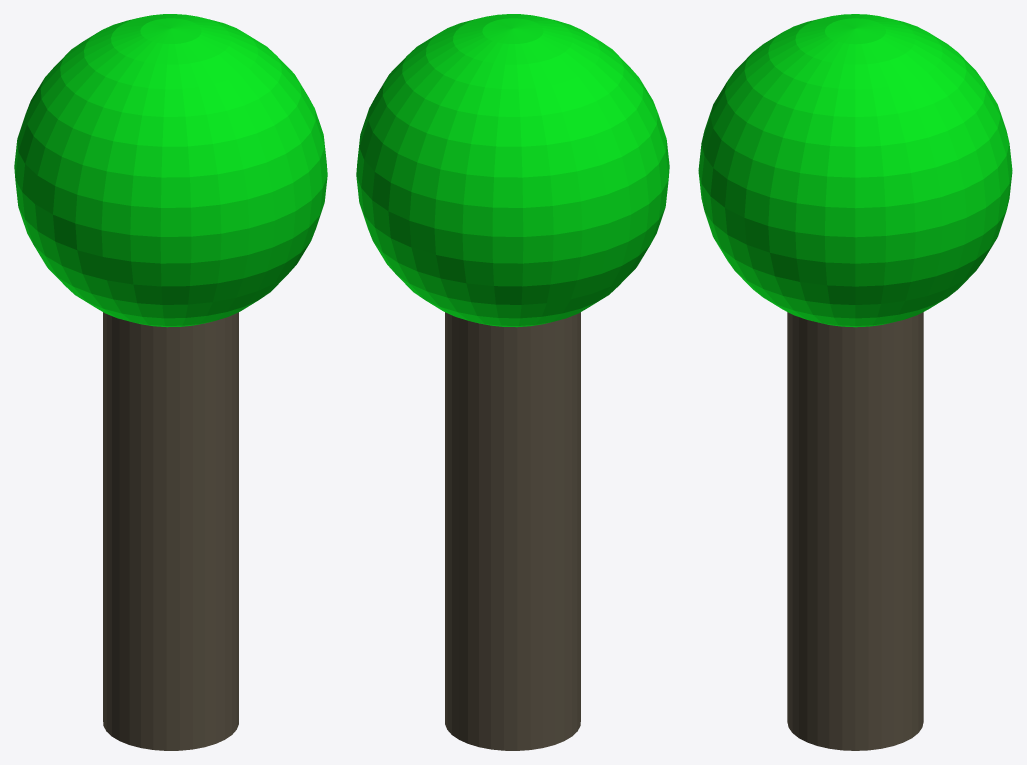
File: Tree.fbx
3 renders of one model, left to right at view 1: azimuth 30°, elevation 25°; view 2: azimuth 150°, elevation 25°; view 3: azimuth 270°, elevation 25°, orthographic.
Visible parts, largest first — view 1: Cylinder; view 2: Cylinder; view 3: Cylinder.
Part boxes in pixels (<box>): Cylinder: <box>14,14,327,750</box>; Cylinder: <box>356,14,669,750</box>; Cylinder: <box>698,14,1012,750</box>.
Bounding box in the file's own units: 461 × 1124 × 461.
